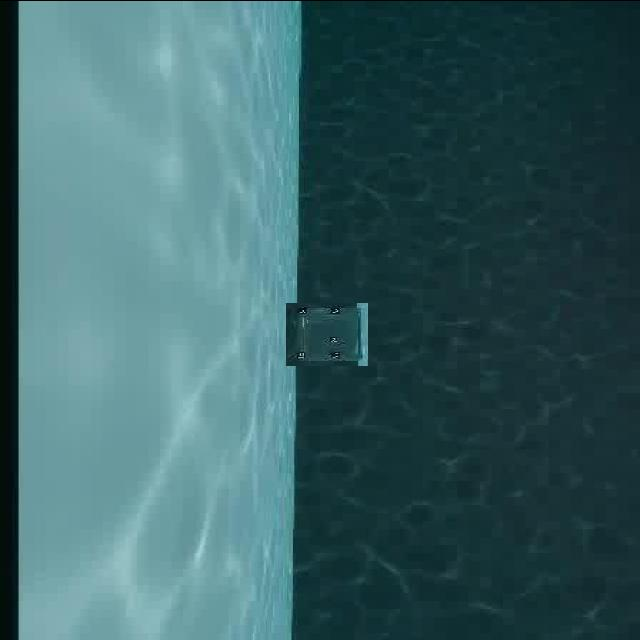Docking Station: (286, 302, 368, 365)
